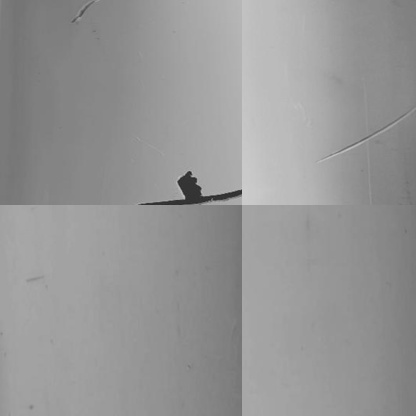fengxi: (144, 190, 240, 205)
kongdong: (176, 170, 204, 197)
sunshang: (322, 100, 413, 173), (70, 1, 95, 27)
